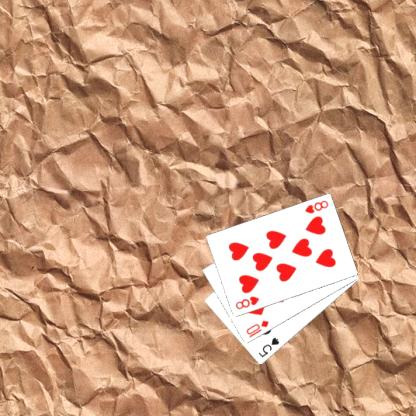10D: (244, 318, 270, 339)
5S: (256, 335, 280, 359)
8H: (232, 294, 260, 311), (302, 198, 330, 215)
